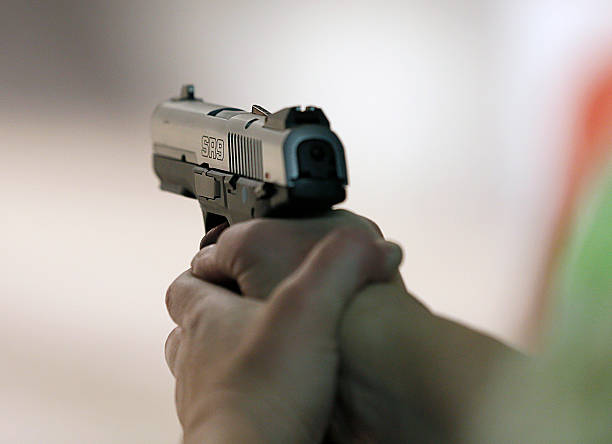pistol: (148, 82, 350, 225)
